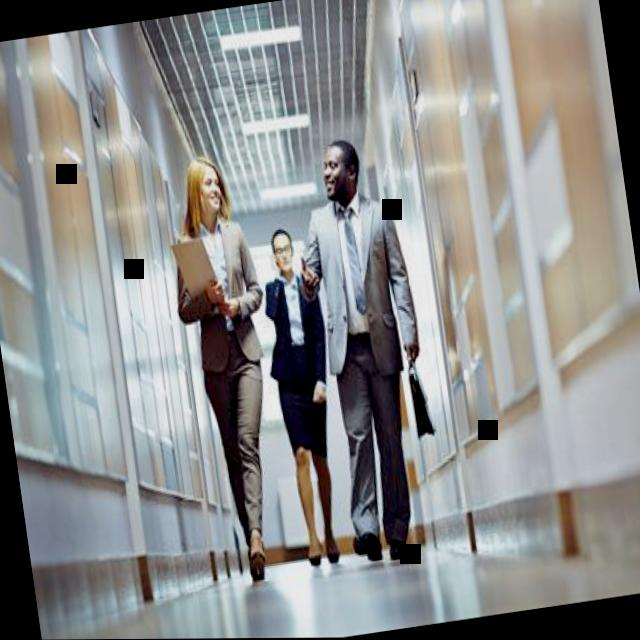NO-Mask: (318, 140, 358, 202), (192, 163, 226, 221), (271, 230, 296, 277)
